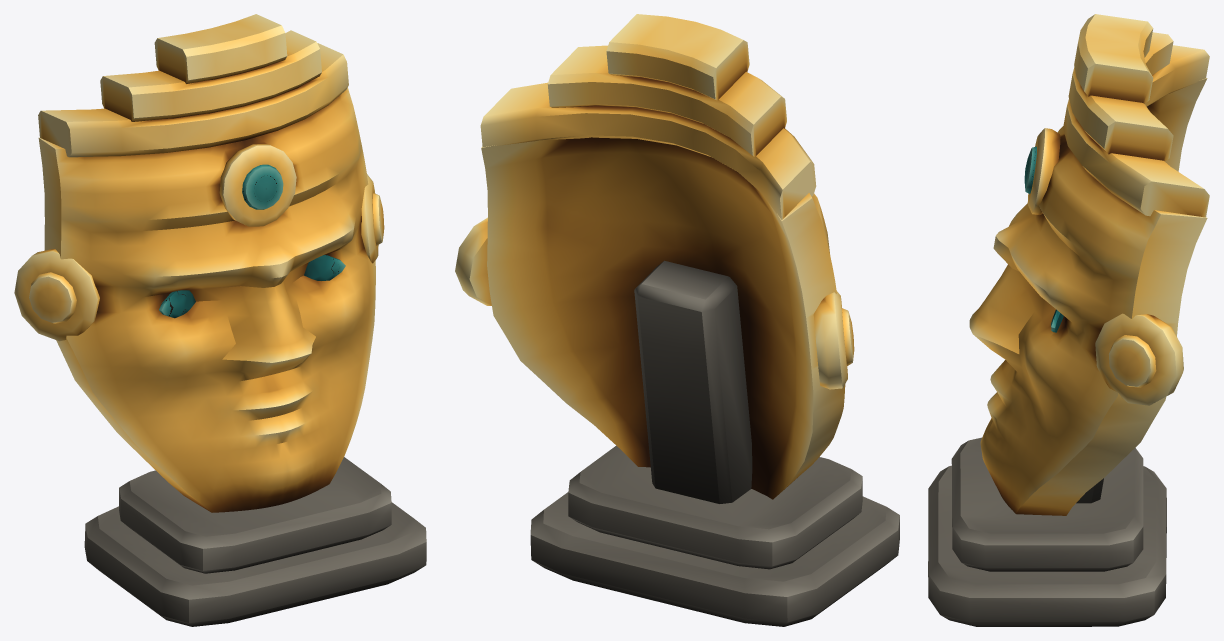
The model's file is gold_mask.fbx.
The picture shows the model from 3 angles, left to right: view 1: azimuth 30°, elevation 25°; view 2: azimuth 150°, elevation 25°; view 3: azimuth 270°, elevation 25°; orthographic projection. The views are drawn at different scales.
Parts seen in each view (by area): view 1: gold_mask_Body; view 2: gold_mask_Body; view 3: gold_mask_Body.
Part boxes in pixels (x1=…): gold_mask_Body: x1=14, y1=14, x2=426, y2=626; gold_mask_Body: x1=455, y1=14, x2=899, y2=626; gold_mask_Body: x1=928, y1=14, x2=1209, y2=626.
Size of the model in its own units: 0.1733 by 0.2372 by 0.1149.
Materials: 1 (1 with a texture image).
